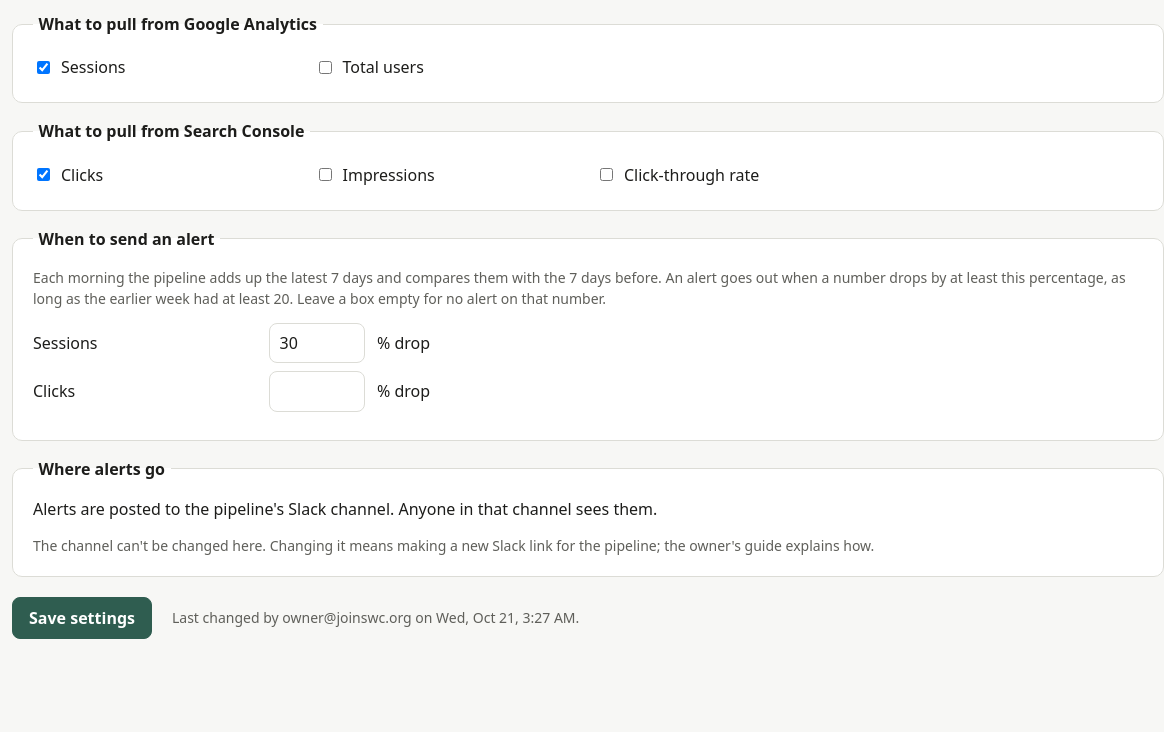
Test case: Settings page › catches mistakes before saving and says what's wrong next to each
This screenshot has width=1164, height=732.
Expected: the checkbox labelled "Sessions" is shown, [37, 61, 50, 74]
Click the checkbox labelled "Clicks": (44, 175) [37, 168, 50, 181]
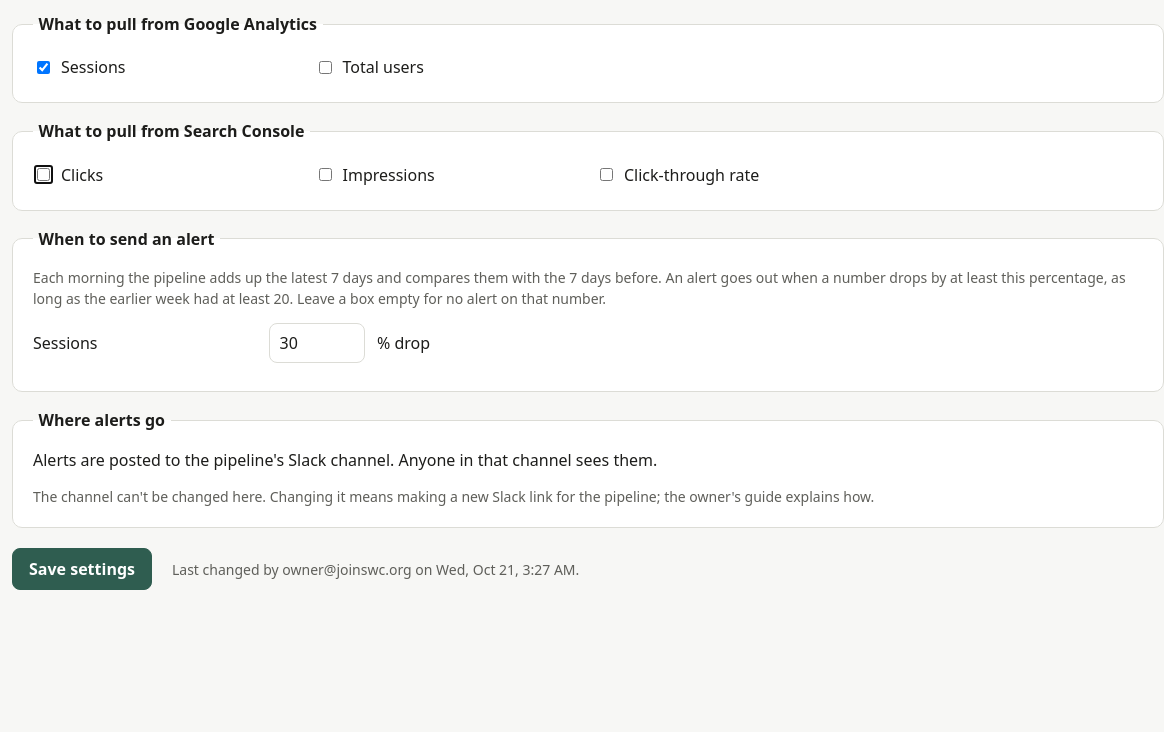
Replace the text in the number field named "Sessions alert threshold (%)" with "150": (317, 343) [269, 323, 365, 363]
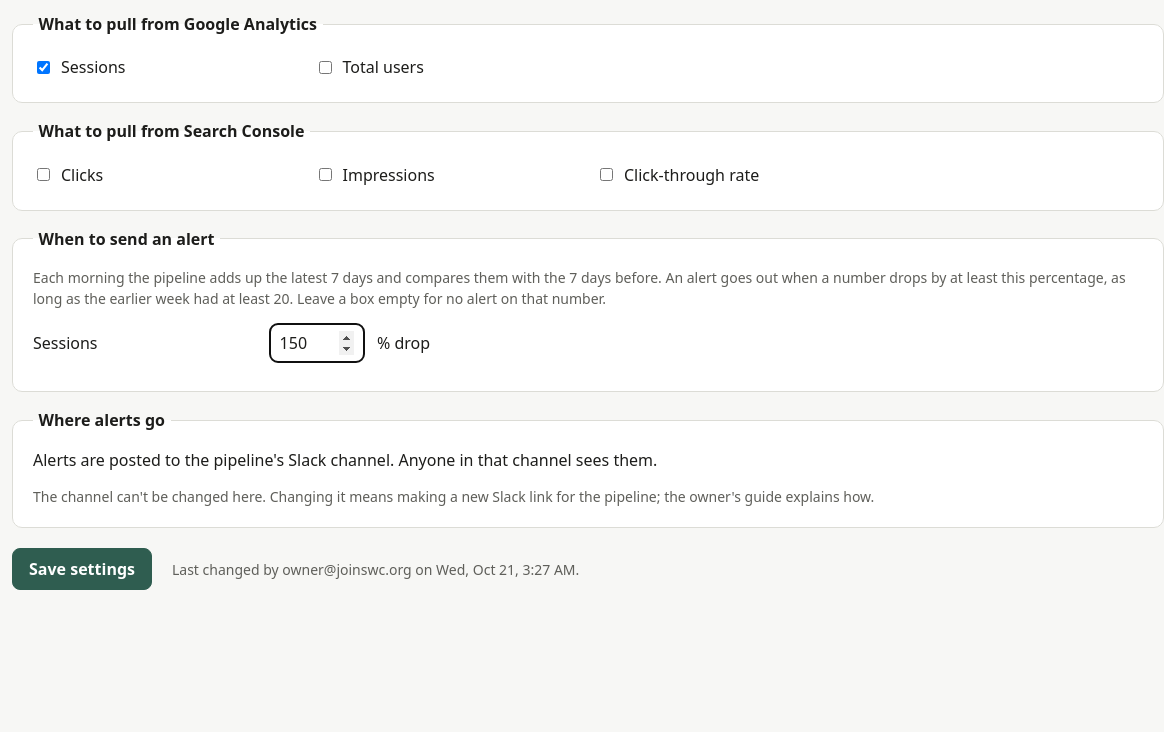
Click the button "Save settings": (82, 569) [12, 548, 152, 590]
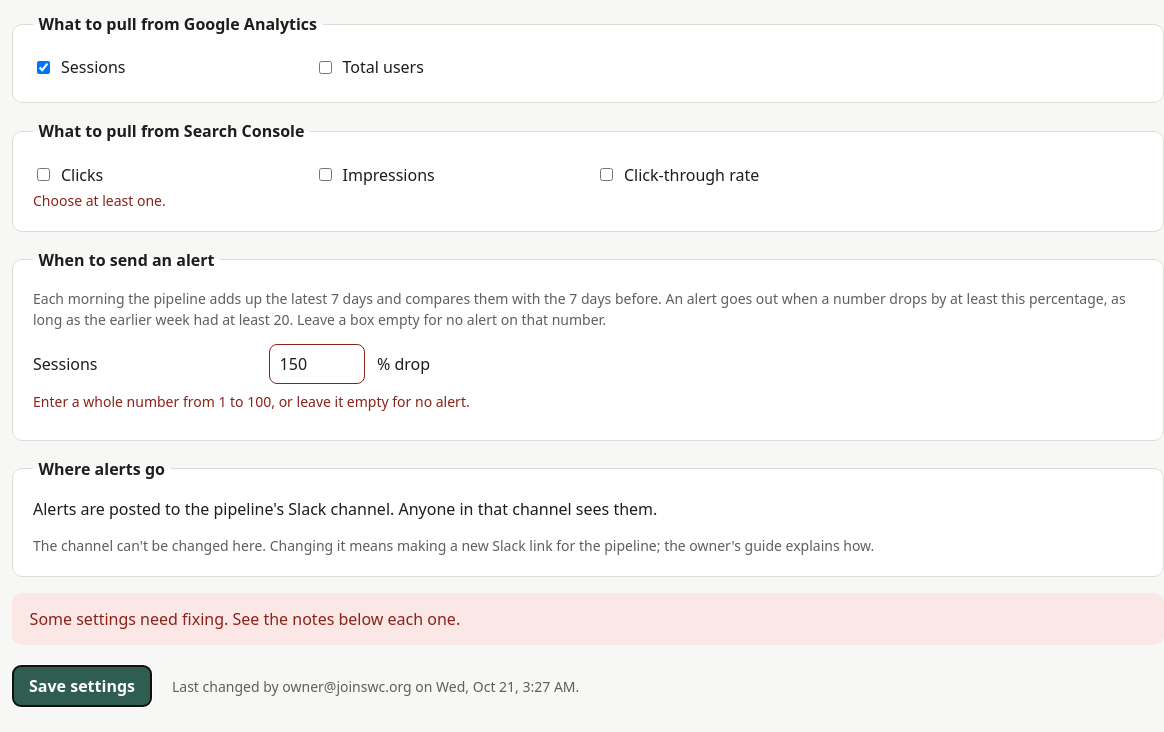
Now the text "Choose at least one." is shown, box [33, 191, 166, 210]
Now the text "Enter a whole number from 1 to 100" is shown, box [33, 392, 470, 410]
